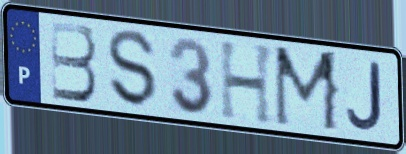3: (166, 35, 216, 117)
B: (48, 19, 100, 105)
H: (217, 39, 278, 128)
J: (344, 60, 386, 134)
M: (272, 44, 342, 136)
S: (105, 27, 159, 111)
